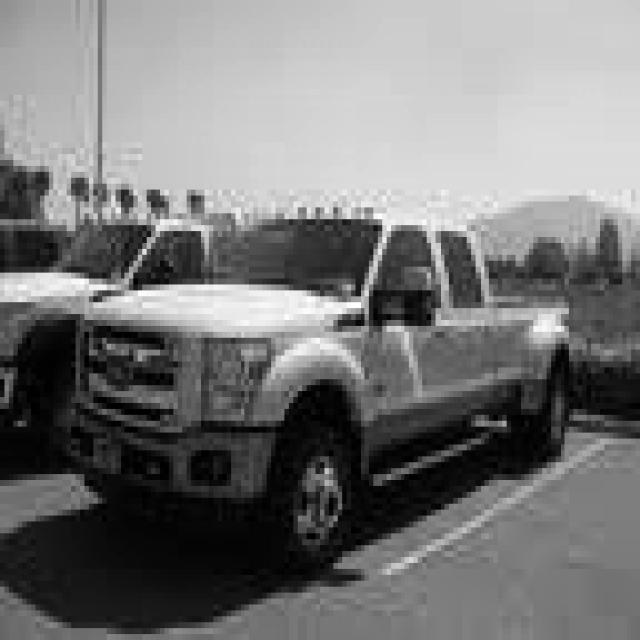car: (62, 213, 574, 569), (0, 213, 231, 462)
